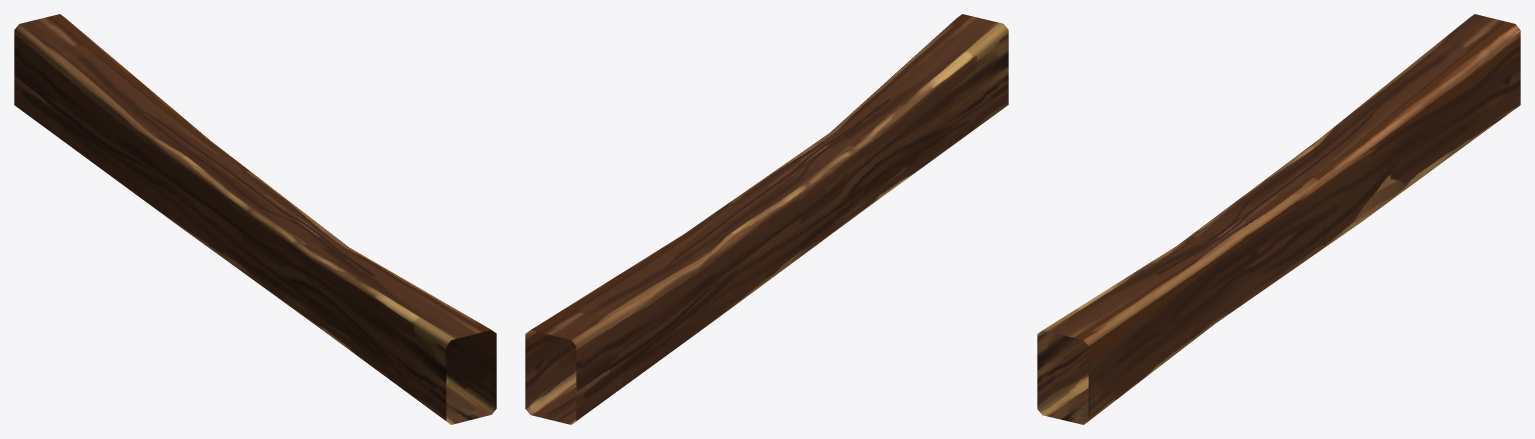
The model's file is Wall_HBeam_Tavern_AB.fbx.
3 renders of one model, left to right at view 1: azimuth 30°, elevation 25°; view 2: azimuth 150°, elevation 25°; view 3: azimuth 330°, elevation 25°, orthographic.
Visible parts, largest first — view 1: pCube14; view 2: pCube14; view 3: pCube14.
Part boxes in pixels (box(x1,y1,x2,y2)): pCube14: box(14, 14, 496, 424); pCube14: box(525, 14, 1008, 424); pCube14: box(1037, 14, 1520, 424).
Bounding box in the file's own units: 37.9 × 61.18 × 542.
